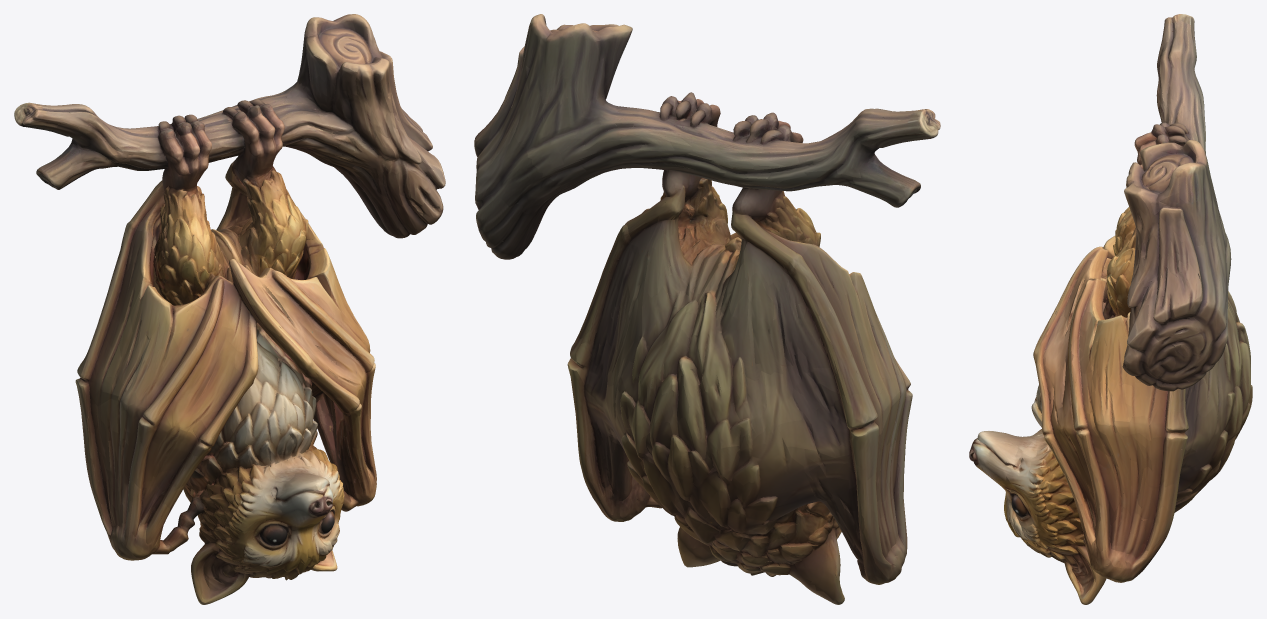
Rendered from Fruit_Bat.glb.
3 views of the same model, side by side, from view 1: azimuth 30°, elevation 25°; view 2: azimuth 150°, elevation 25°; view 3: azimuth 270°, elevation 25° (orthographic). The views are drawn at different scales.
Visible parts, largest first — view 1: output_unwrapped; view 2: output_unwrapped; view 3: output_unwrapped.
Boxes of the visible parts, left/top/right/bottom form: output_unwrapped: left=14, top=14, right=445, bottom=604; output_unwrapped: left=474, top=14, right=940, bottom=604; output_unwrapped: left=969, top=14, right=1252, bottom=604.
Size of the model in its own units: 1.59 by 1.9 by 1.01.
1 material, 1 textured.
